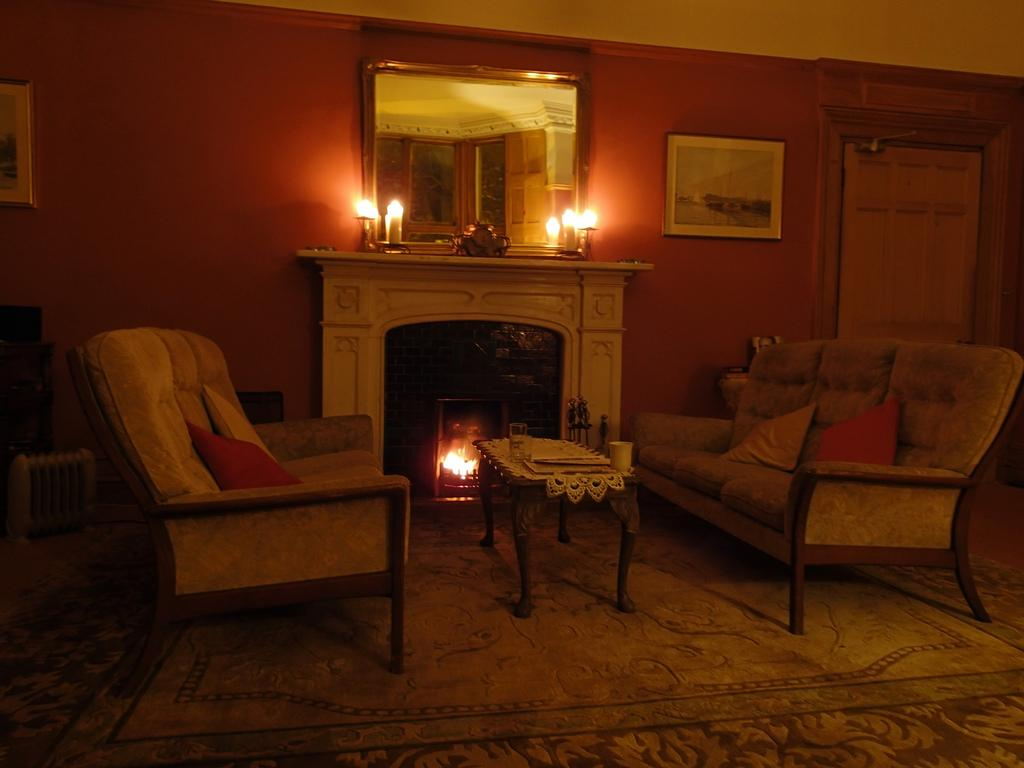fire: (540, 202, 598, 240), (356, 190, 408, 228), (442, 438, 474, 484)
